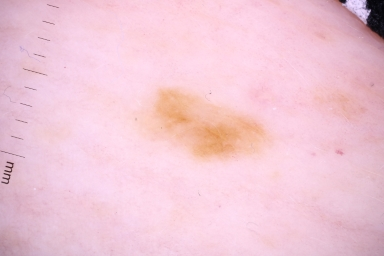nevus: (152, 88, 271, 157)
